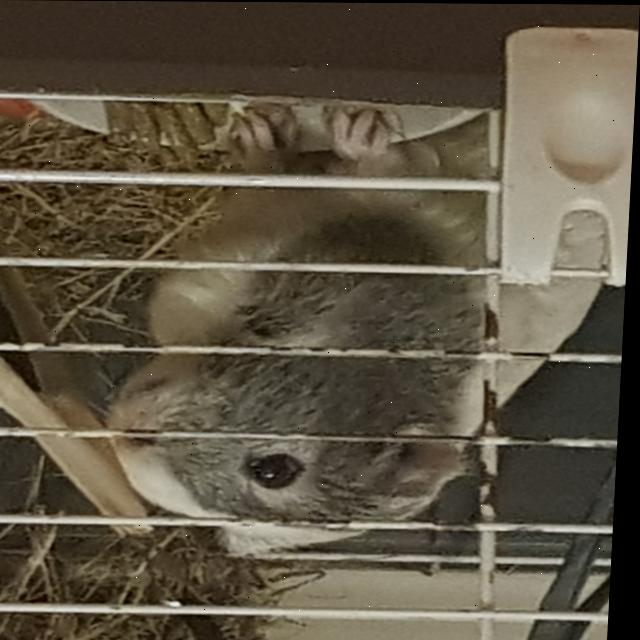guinea pig: (106, 103, 613, 557)
